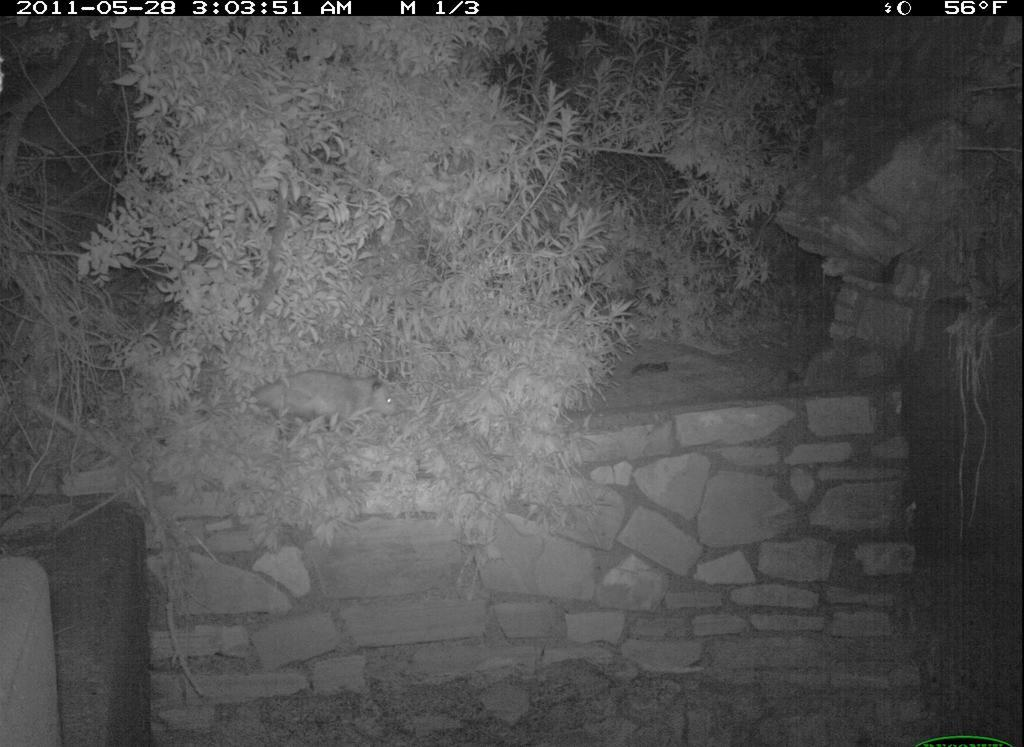opossum: (237, 346, 408, 450)
